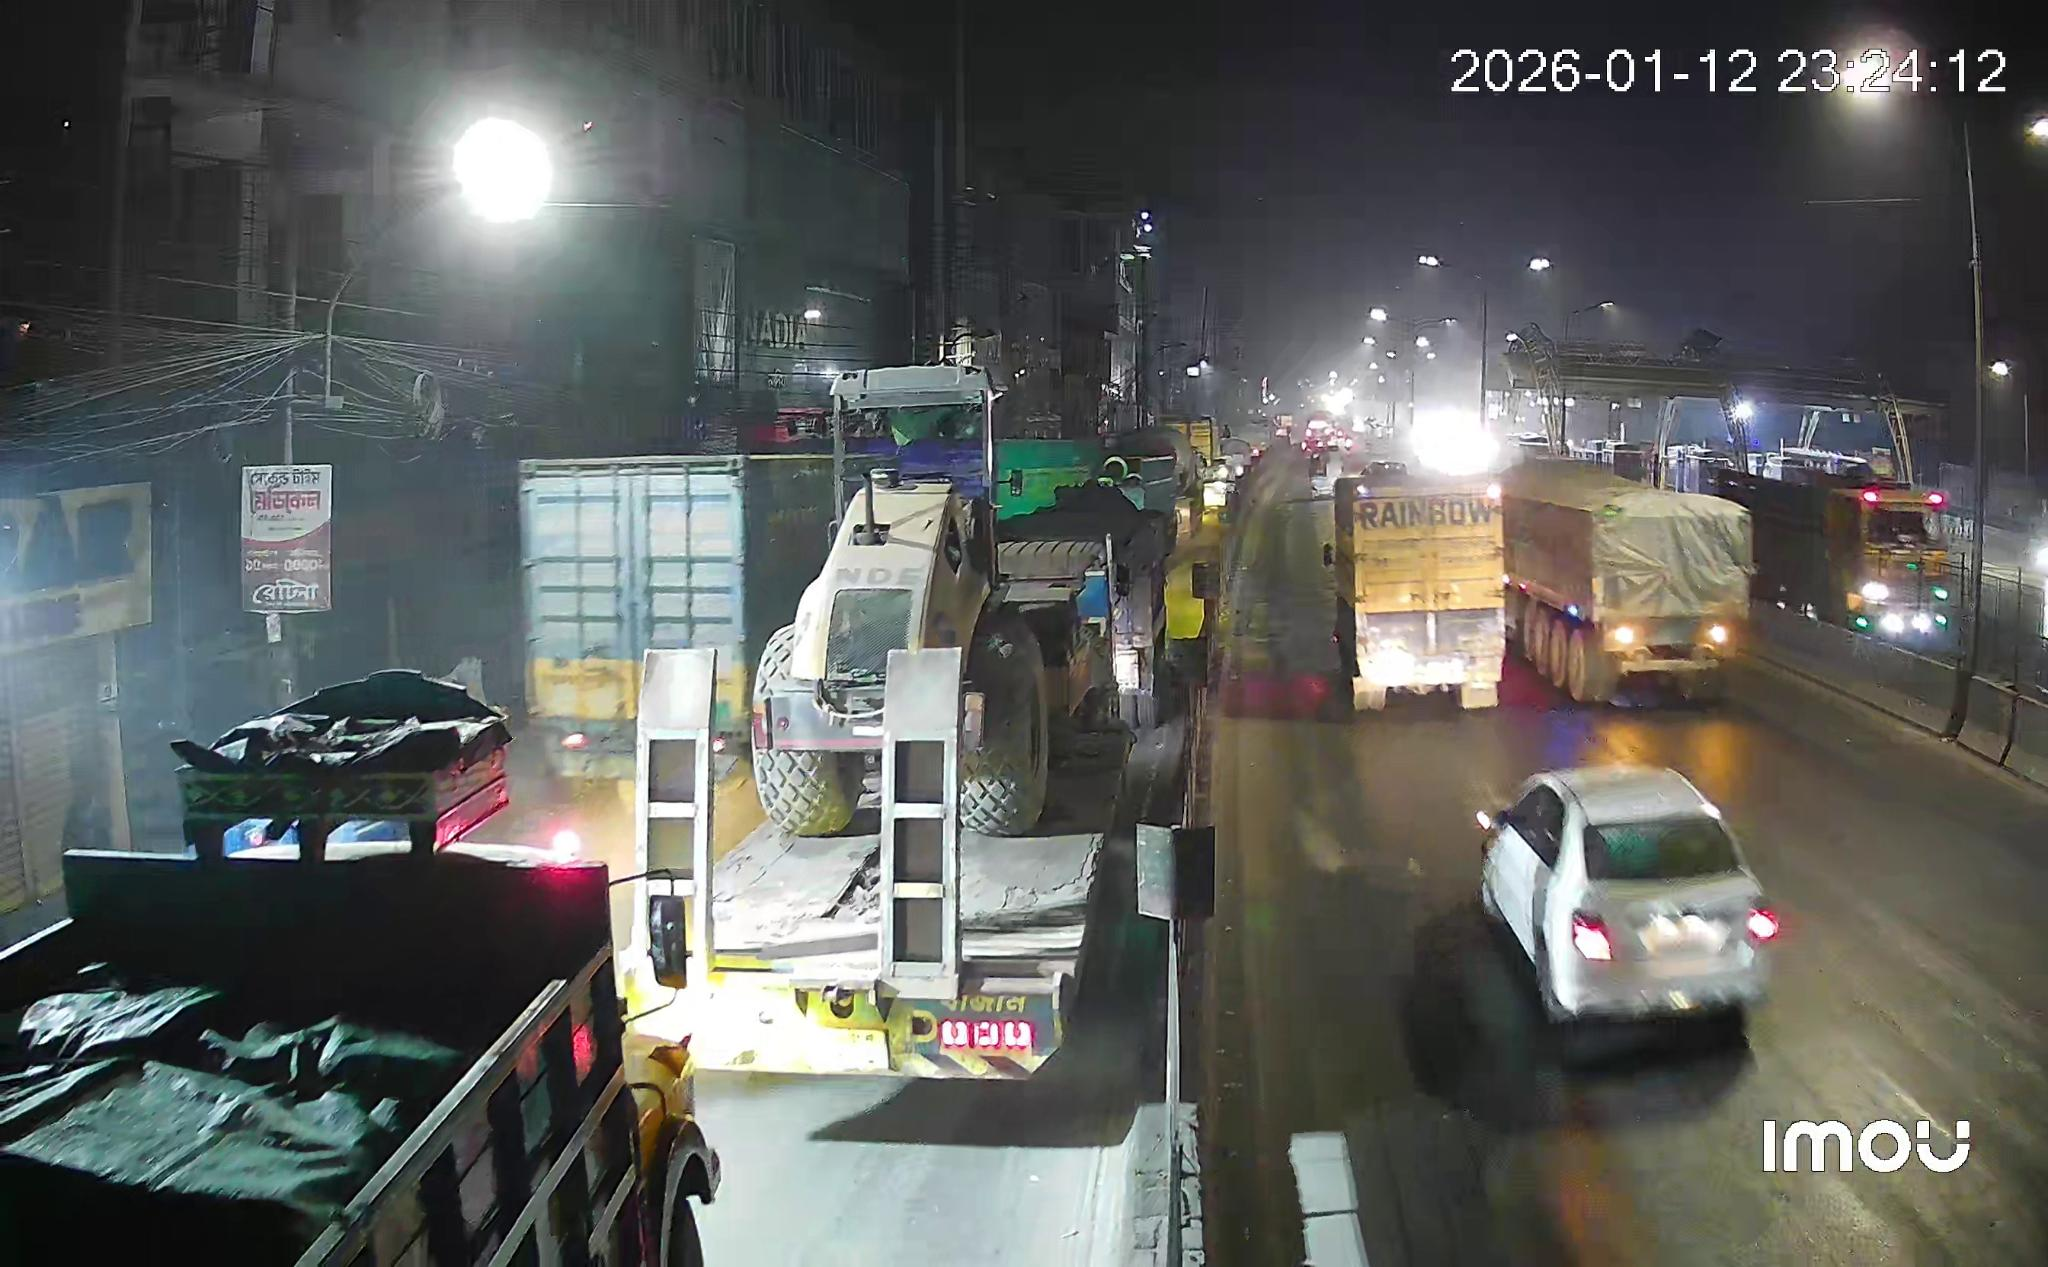Private-Sedan Car: (1475, 766, 1781, 1019)
Truck: (0, 671, 721, 1267), (520, 455, 834, 797), (1503, 460, 1754, 702), (1323, 470, 1505, 709), (1712, 469, 1950, 638)
